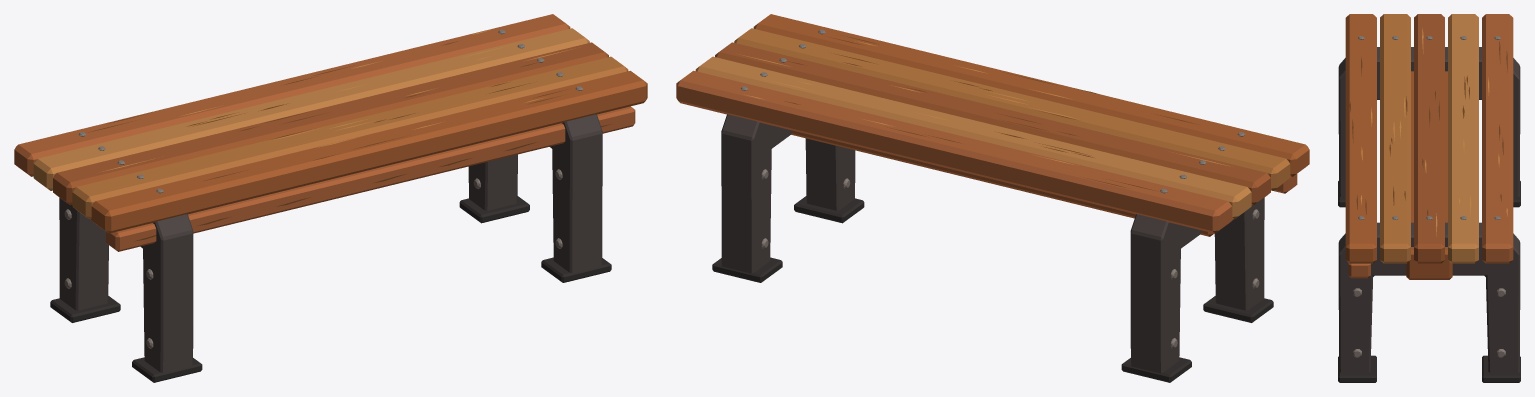
The model's file is wsc-prop-044-lookout-bench.glb.
3 views of the same model, side by side, from view 1: azimuth 30°, elevation 25°; view 2: azimuth 150°, elevation 25°; view 3: azimuth 270°, elevation 25° (orthographic). The views are drawn at different scales.
Visible parts, largest first — view 1: iron, wood4, wood0, wood3, wood2, wood1, iron_dark, edge, nail, ridge; view 2: iron, wood4, wood2, wood3, wood1, wood0, iron_dark, edge, nail, ridge; view 3: iron, wood2, wood4, wood0, wood3, wood1, iron_dark, edge, nail, ridge.
Boxes of the visible parts, x1,y1,x2,y2 form: iron: (59,114,602,373); wood4: (14,14,635,251); wood0: (91,70,647,233); wood3: (33,28,589,190); wood2: (53,42,608,220); wood1: (72,56,628,219); iron_dark: (50,196,611,382); edge: (88,41,611,241); nail: (64,29,583,348); ridge: (102,29,575,171); iron: (721,114,1264,373); wood4: (676,70,1297,233); wood2: (715,42,1270,236); wood3: (695,56,1251,219); wood1: (734,28,1290,190); wood0: (753,14,1309,176); iron_dark: (712,196,1273,382); edge: (784,35,1199,191); nail: (740,29,1259,348); ridge: (739,41,1230,166); iron: (1338,47,1520,372); wood2: (1406,14,1452,279); wood4: (1348,14,1513,278); wood0: (1345,14,1376,263); wood3: (1448,14,1478,263); wood1: (1380,14,1410,263); iron_dark: (1338,181,1520,382); edge: (1349,41,1507,216); nail: (1353,36,1505,357); ridge: (1360,28,1507,236).
Bounding box in the file's own units: 1.91 × 0.6045 × 0.633.
